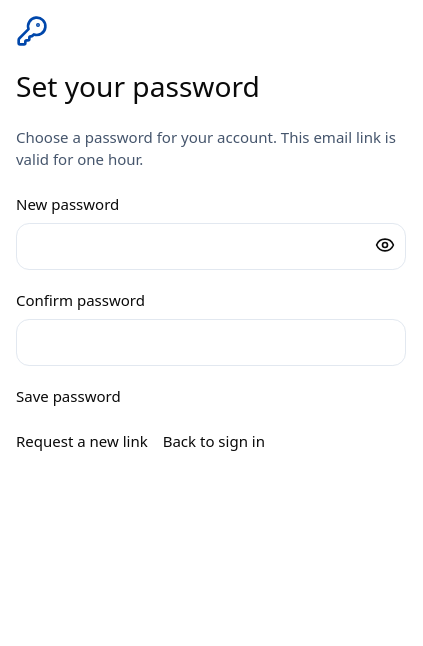
Test: still requires native validation even when the displayed expiry is in the future
Type "Example-password1!" into the password field labelled "New password" at (211, 247), box 16,223 -> 406,270
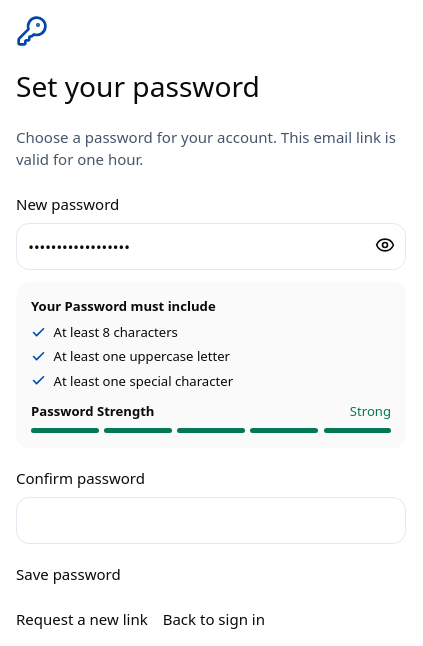
Type "Example-password1!" into the password field labelled "Confirm password" at (211, 521), box 16,497 -> 406,544
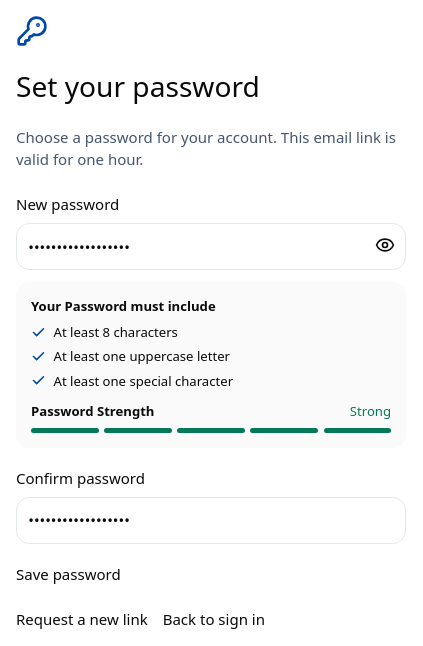
Click the button "Save password" at (68, 574), box 16,563 -> 121,585
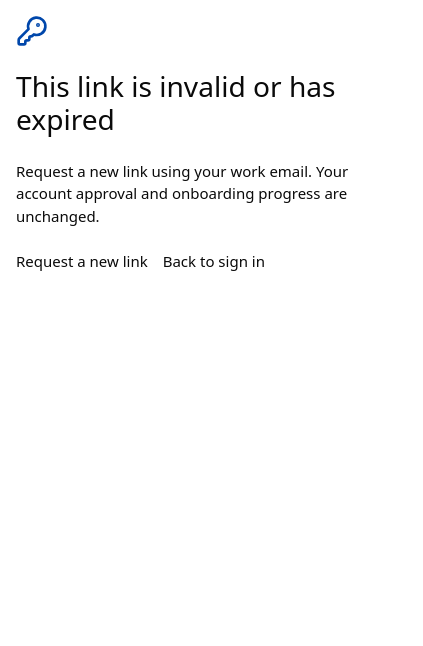
Now the heading "This link is invalid or has expired" is shown, box 16,66 -> 336,138
Now the label labelled "New password" is gone
